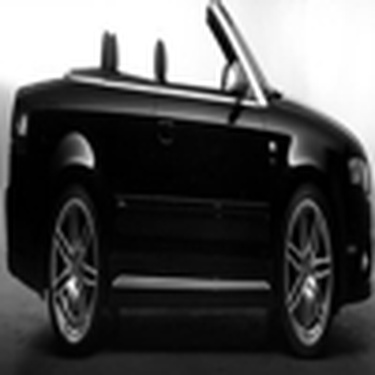car: (5, 1, 372, 362)
